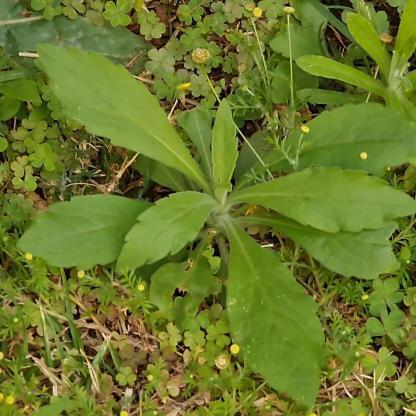Weeds: (19, 38, 408, 411), (299, 7, 415, 143)
